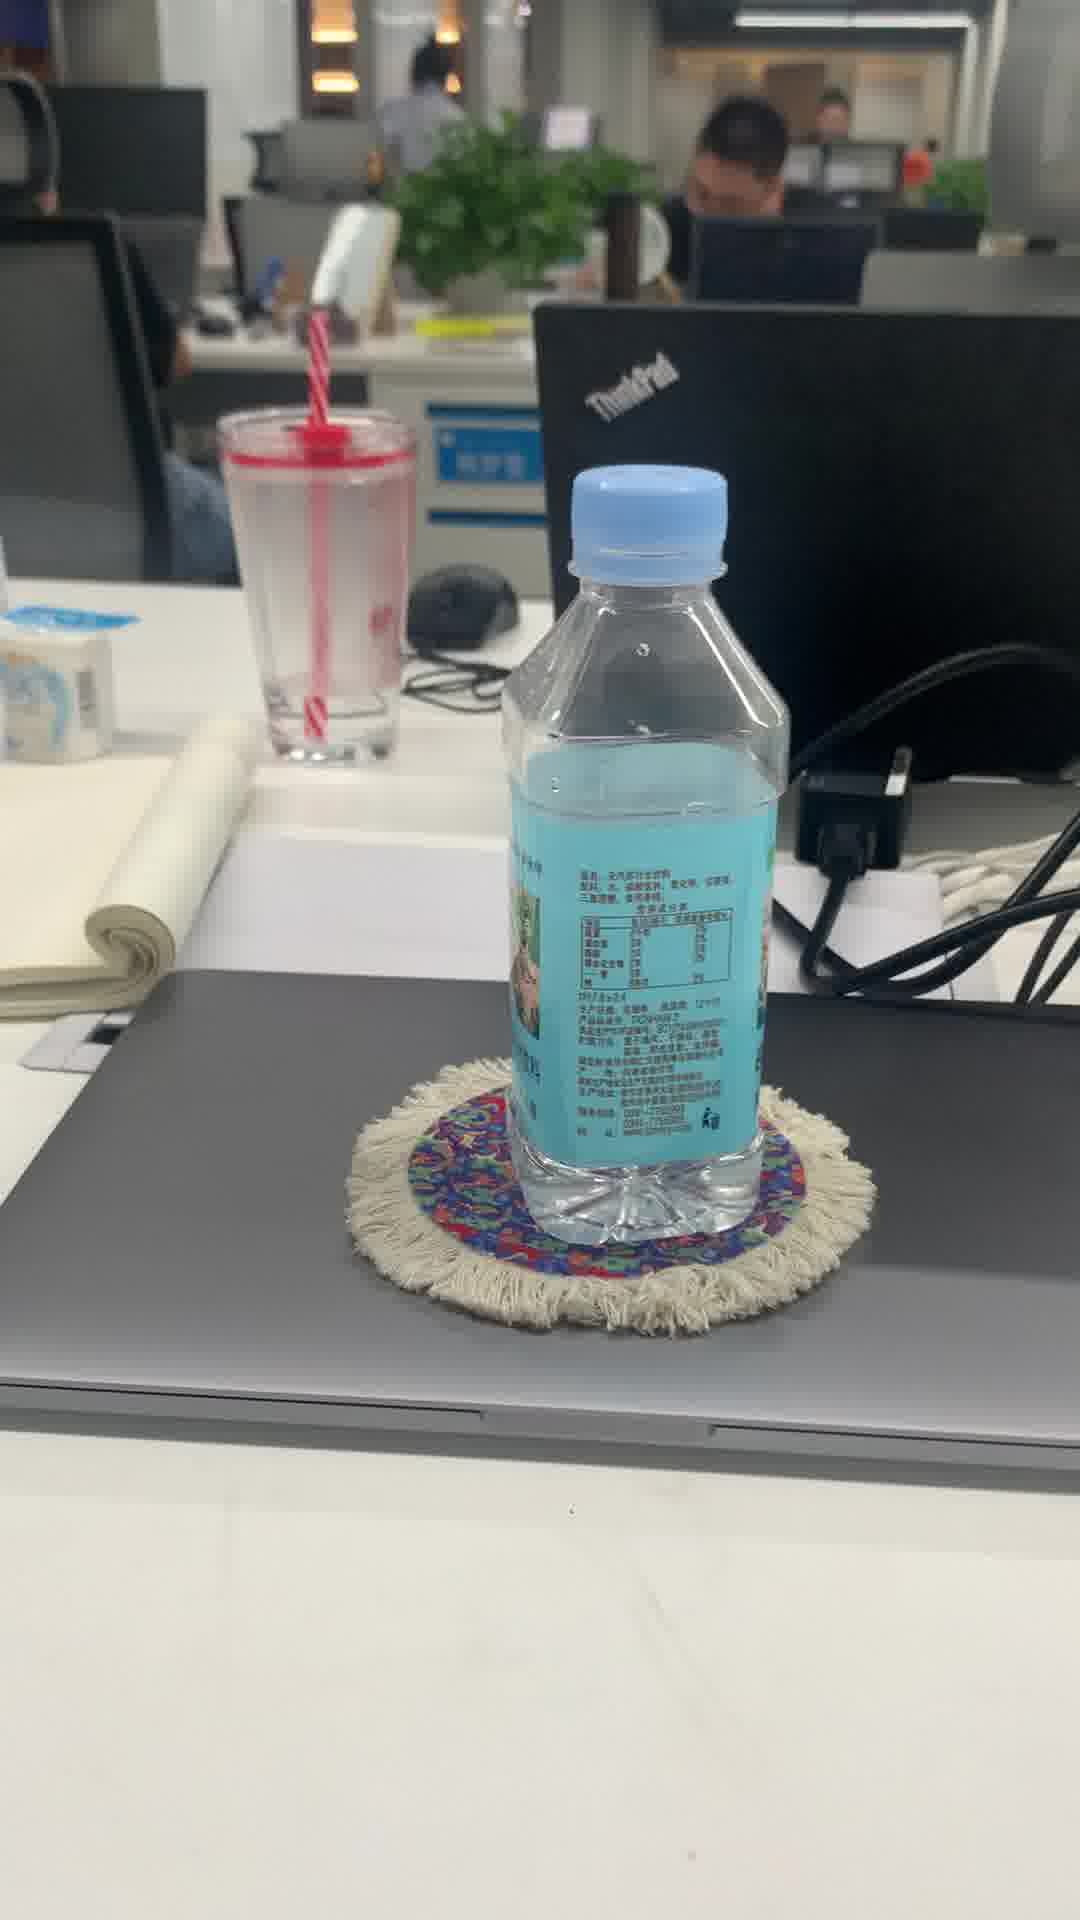水瓶: (495, 462, 785, 1247)
